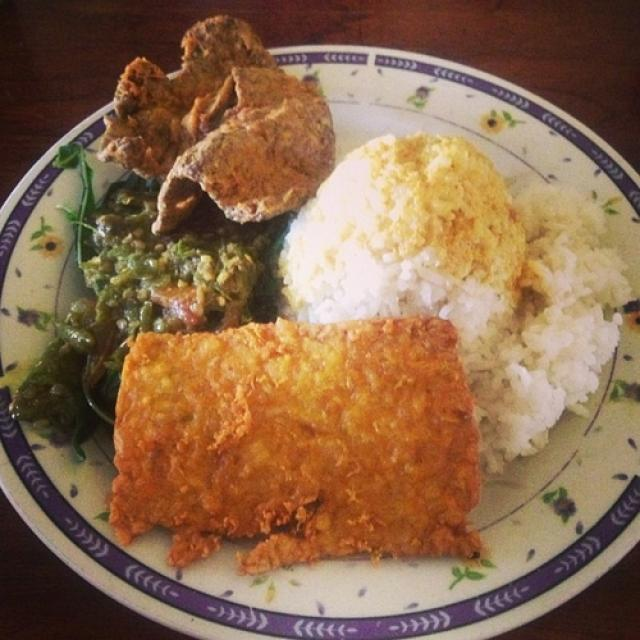米饭主食: (13, 8, 621, 626)
